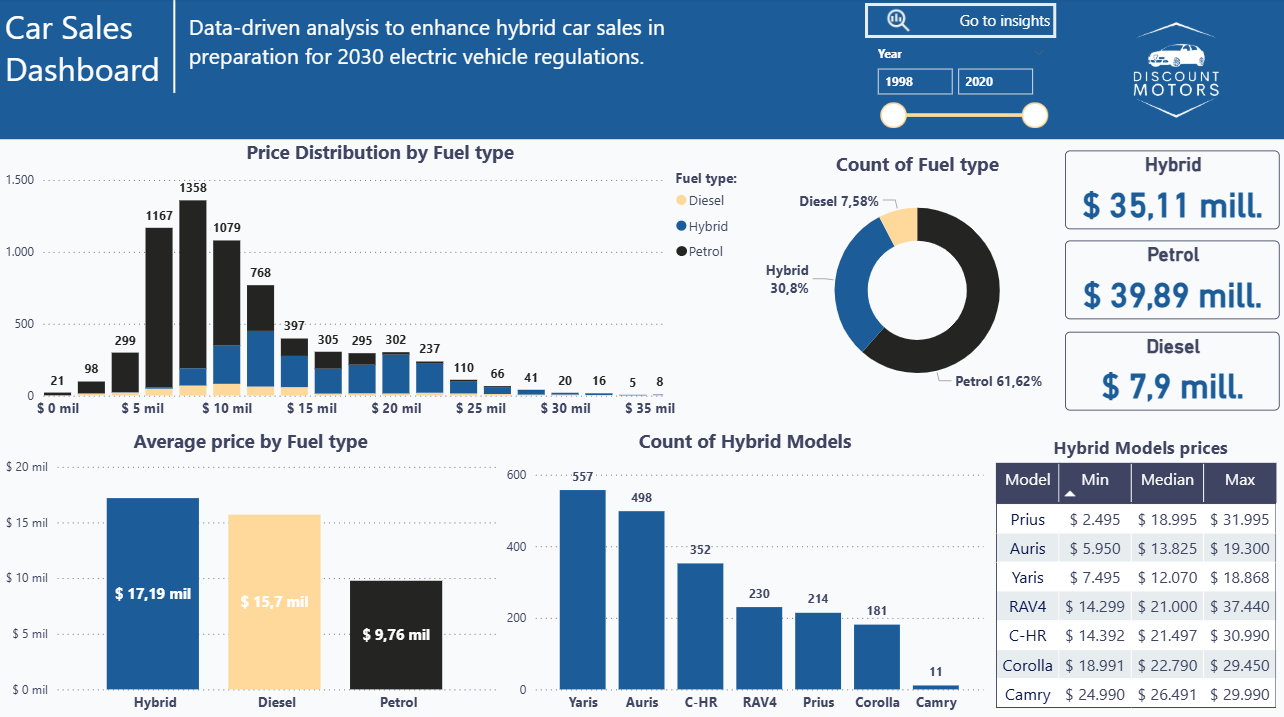

Layout of this report page (visuals, bound fields, positions):
{"tool":"powerbi","page":{"name":"Dashboard","canvas":[1280,720],"ordinal":0},"visuals":[{"type":"columnChart","title":"Price Distribution by Fuel type","fields":{"Series":["toyota.fuelType"],"Category":["toyota.price (ubicaciones)"],"Y":["CountNonNull(toyota.price (ubicaciones))"]},"box":[0,140.6,756.3,287.4],"z":1000},{"type":"columnChart","title":"Average price by Fuel type","fields":{"Category":["toyota.fuelType"],"Y":["Avg(toyota.price)"],"Series":["toyota.fuelType"]},"box":[0,427.9,498.8,292.3],"z":2000},{"type":"donutChart","title":"Count of Fuel type","fields":{"Category":["toyota.fuelType"],"Y":["CountNonNull(toyota.fuelType)"]},"box":[756.3,151.8,313.5,258.7],"z":3000},{"type":"tableEx","title":"Hybrid Models prices","fields":{"Values":["toyota.model","Min(toyota.price)1","Median(toyota.price)","Max(toyota.price)2"]},"box":[970.3,435.4,309.7,279.9],"z":4000},{"type":"columnChart","title":"Count of Hybrid Models","fields":{"Category":["toyota.model"],"Y":["CountNonNull(toyota.model)"]},"box":[498.8,427.9,485.1,292.3],"z":5000},{"type":"card","title":"Diesel","fields":{"Values":["Sum(toyota.price)"]},"box":[1060,332.1,214,78.4],"z":6000},{"type":"actionButton","box":[0,0,100,40],"z":7000},{"type":"shape","box":[0,0,1280,140.6],"z":8000},{"type":"card","title":"Hybrid","fields":{"Values":["Sum(toyota.price)"]},"box":[1060,151.8,214,78.4],"z":9000},{"type":"card","title":"Petrol","fields":{"Values":["Sum(toyota.price)"]},"box":[1060,241.3,214,78.4],"z":10000},{"type":"textbox","box":[0,1.2,248.8,126.9],"z":11000},{"type":"shape","box":[138.1,0,70.9,94.5],"z":12000},{"type":"actionButton","box":[860.8,5,190.3,34.8],"z":13000},{"type":"textbox","box":[182.9,8.7,518.7,77.1],"z":14000},{"type":"slicer","fields":{"Values":["toyota.Year"]},"box":[860.8,42.3,190.3,98.3],"z":15000},{"type":"image","box":[1059.9,0,220.2,144.3],"z":15001}]}

Visuals, with their boxes in screenshot pixels (x1, y1, x2, y2), scaled from the page's 1280x720 canvas onto the 1284x717 screenshot:
"Price Distribution by Fuel type" columnChart: region(0, 140, 759, 426)
"Average price by Fuel type" columnChart: region(0, 426, 500, 716)
"Count of Fuel type" donutChart: region(759, 151, 1073, 409)
"Hybrid Models prices" tableEx: region(973, 434, 1283, 712)
"Count of Hybrid Models" columnChart: region(500, 426, 987, 716)
"Diesel" card: region(1063, 331, 1278, 409)
actionButton: region(0, 0, 100, 40)
shape: region(0, 0, 1283, 140)
"Hybrid" card: region(1063, 151, 1278, 229)
"Petrol" card: region(1063, 240, 1278, 318)
textbox: region(0, 1, 250, 128)
shape: region(139, 0, 210, 94)
actionButton: region(863, 5, 1054, 40)
textbox: region(183, 9, 704, 85)
slicer - toyota.Year: region(863, 42, 1054, 140)
image: region(1063, 0, 1283, 144)
